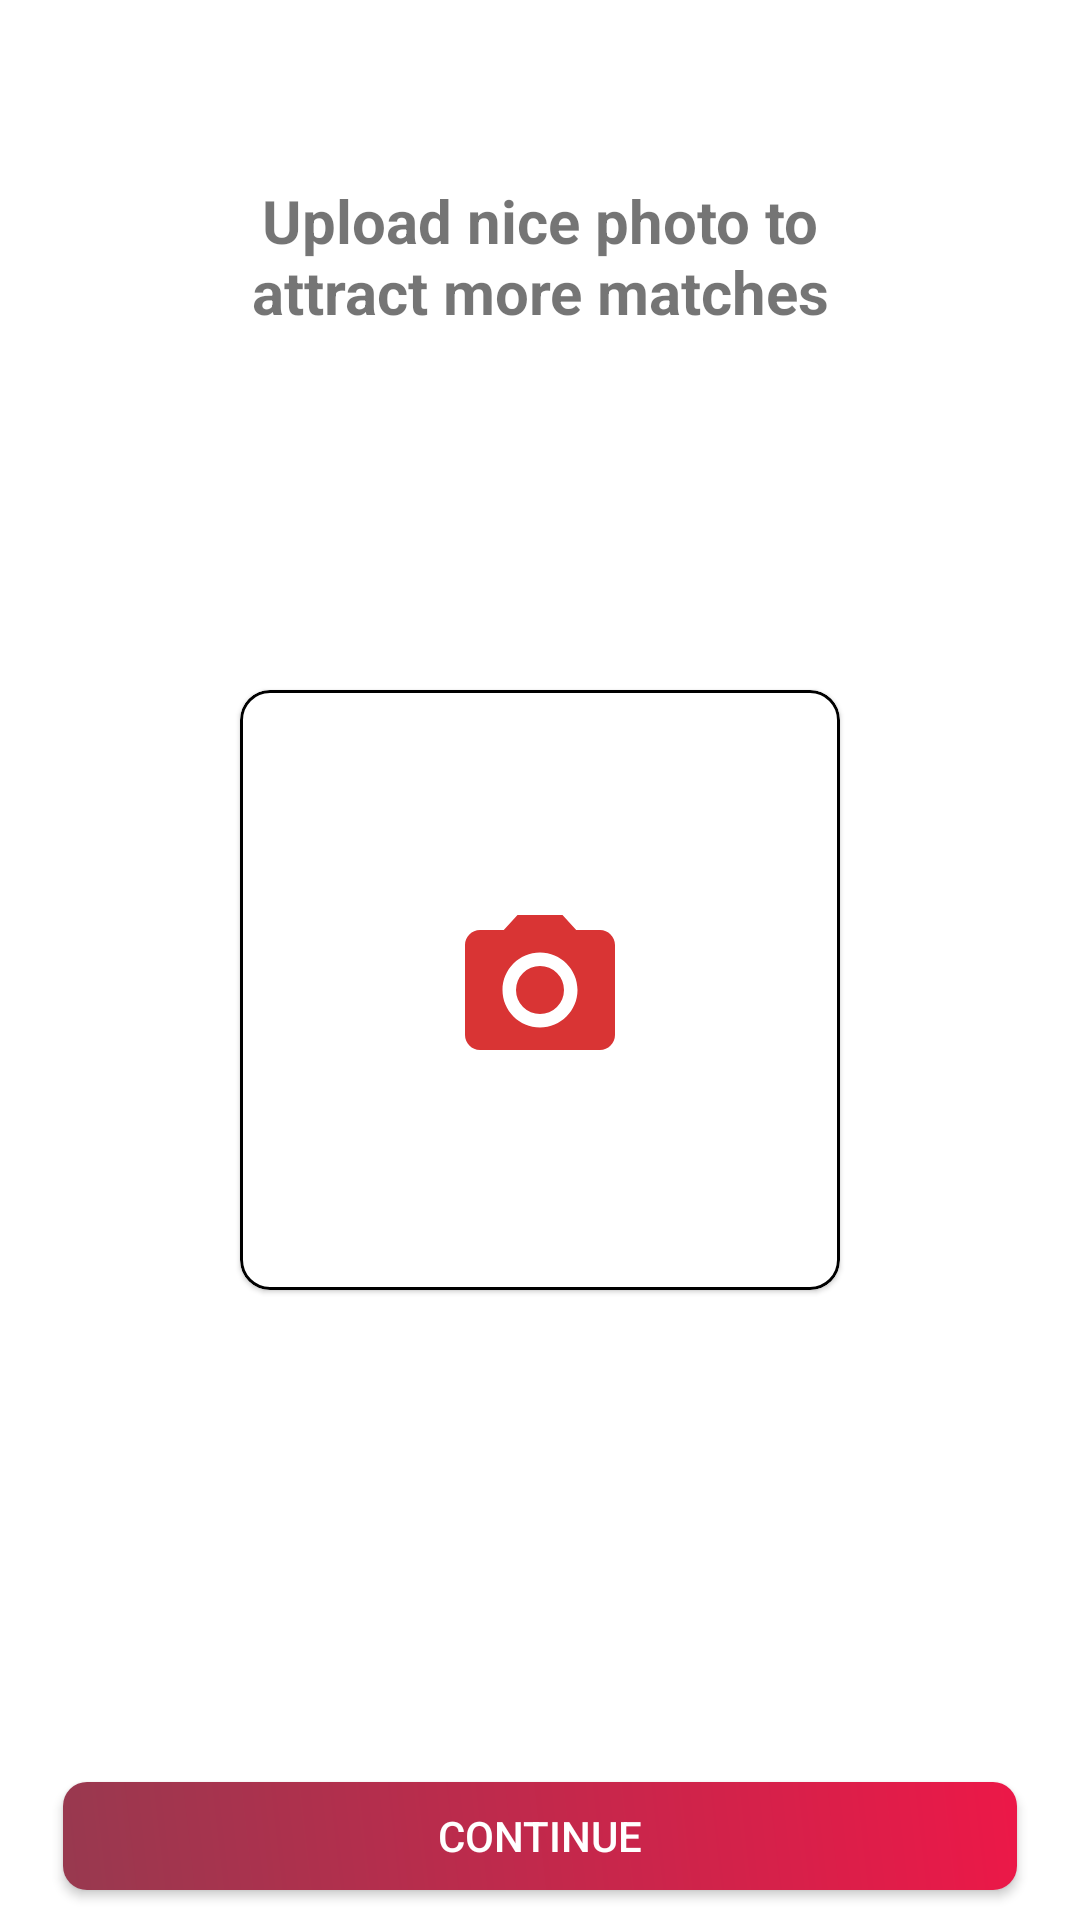

Locate icon controls on the screen. Image size 1080 × 1920, boxes as (x1, y1, x2, y2).
camera: (465, 915, 615, 1050)
